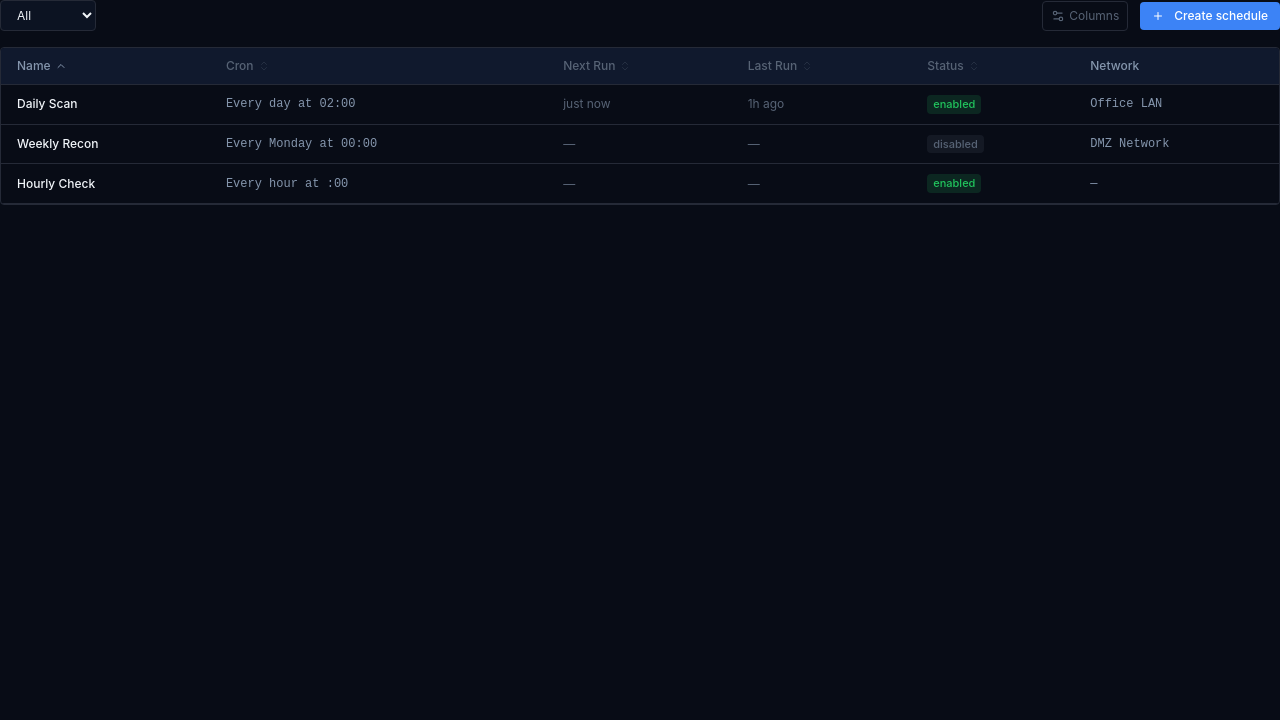
SchedulesPage — detail panel › shows Enable button for disabled schedule
Step 1. Click the text "Weekly Recon" → (640, 144), box [1,124,1279,164]
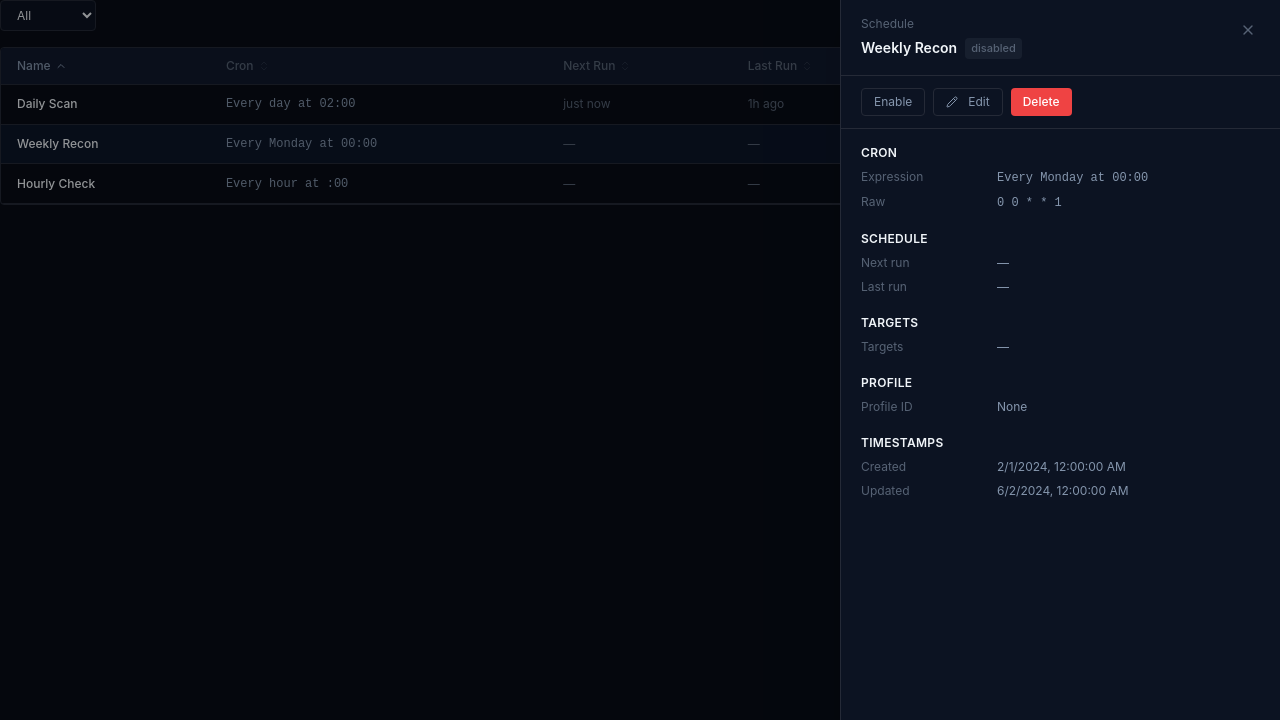
Now the button "Enable" is shown, box [861,88,925,116]
